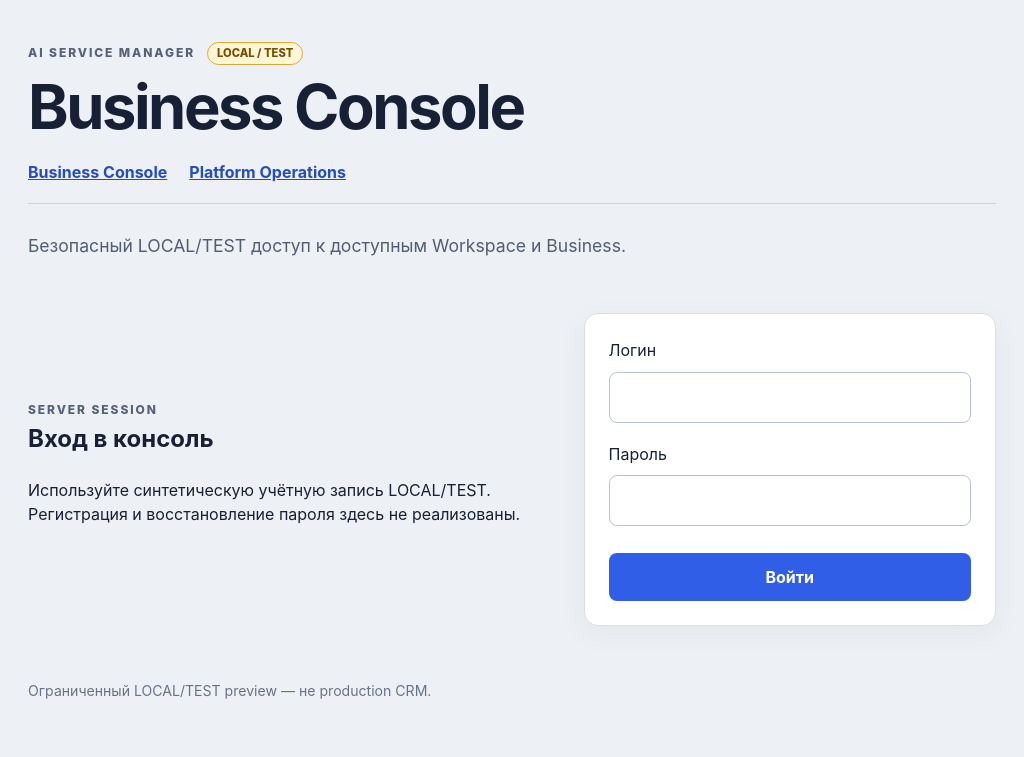
Test: Business Console auth › recovers an ambiguous login through current-session without replay
Type "owner.test" into the field labelled "Логин". click: (790, 397)
box: top-left (608, 372), bottom-right (971, 422)
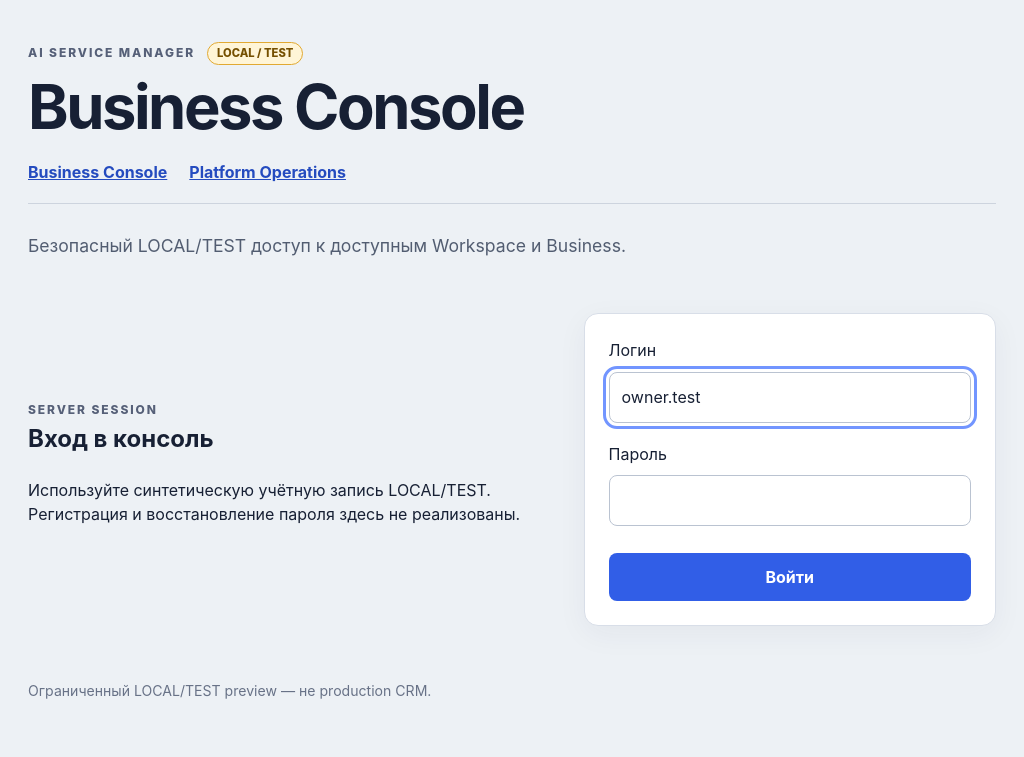
Type "correct-password" into the password field labelled "Пароль". click: (790, 501)
box: top-left (608, 475), bottom-right (971, 526)
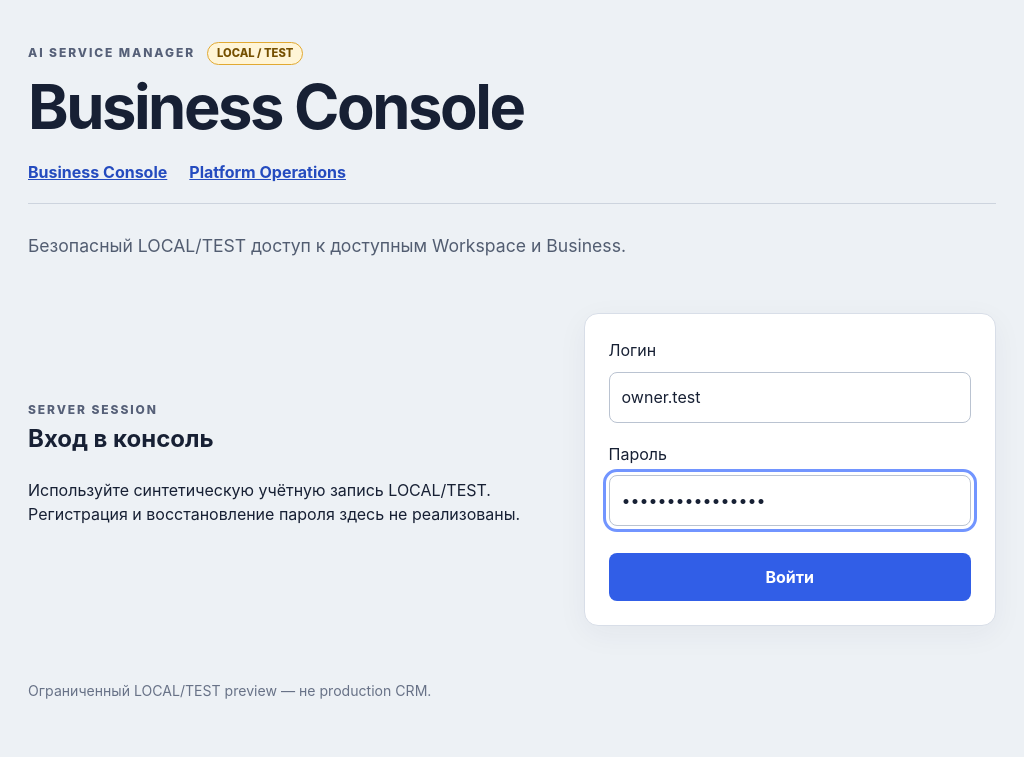
Click the button "Войти". click: click(790, 577)
box: top-left (608, 553), bottom-right (971, 601)
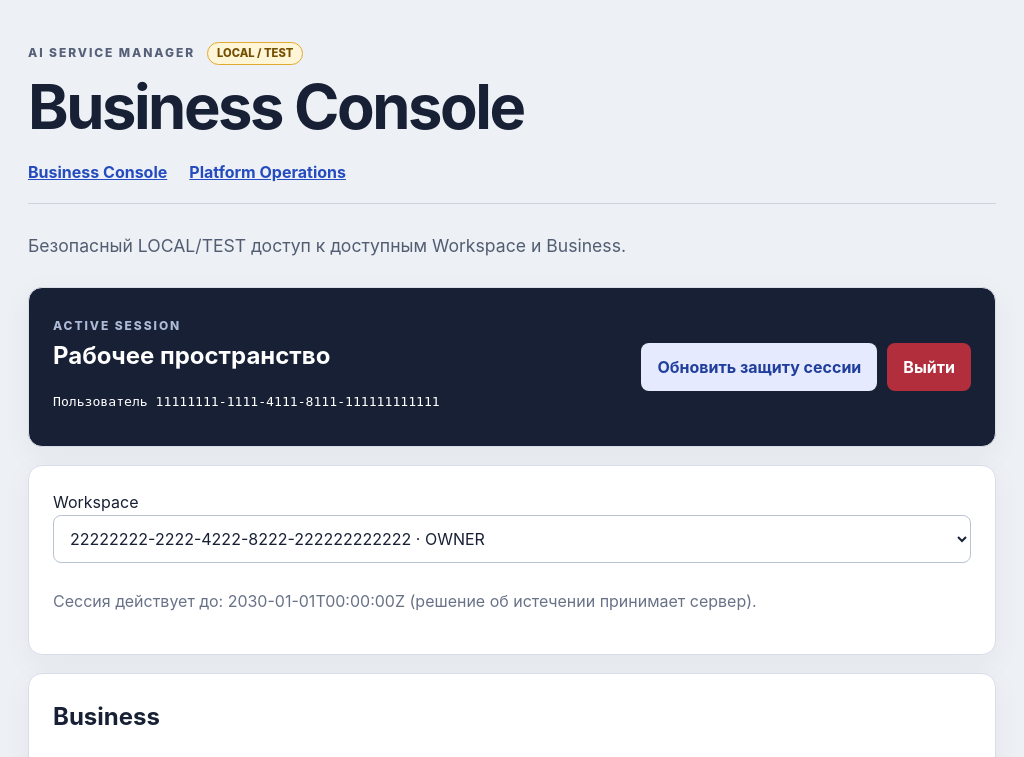
expect the text "Пользователь 11111111-1111-4111-8111-111111111111" is shown: met, box top-left (53, 394), bottom-right (440, 409)
